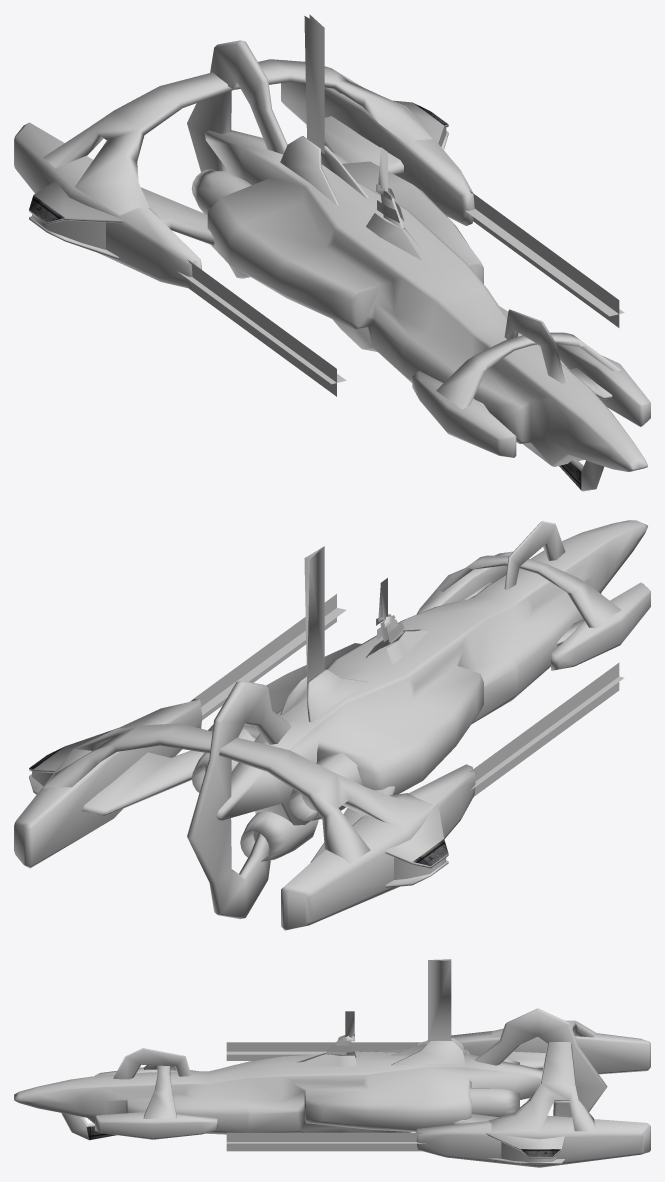
Rendered from ICCretexturedcruiser.dae.
The picture shows the model from 3 angles, top to bottom: view 1: azimuth 30°, elevation 25°; view 2: azimuth 150°, elevation 25°; view 3: azimuth 270°, elevation 25°; orthographic projection. The views are drawn at different scales.
Visible parts, largest first — view 1: ICCCRUISERPM; view 2: ICCCRUISERPM; view 3: ICCCRUISERPM.
Boxes of the visible parts, <box> form: ICCCRUISERPM: <box>14,14,650,491</box>; ICCCRUISERPM: <box>14,520,650,930</box>; ICCCRUISERPM: <box>14,959,650,1167</box>.
Size of the model in its own units: 3.18 by 2.35 by 6.65.
